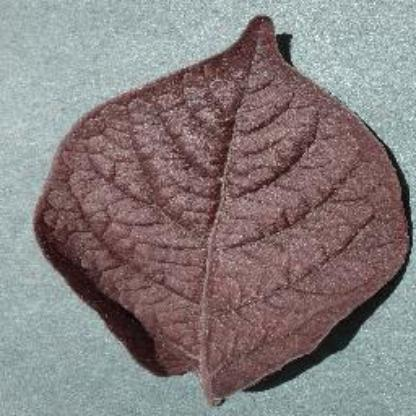Healthy-plant: (27, 12, 409, 404)
